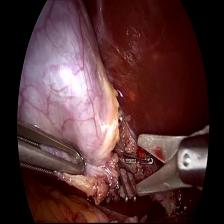Grasper: (17, 118, 86, 184)
Scissors: (132, 130, 211, 202)
